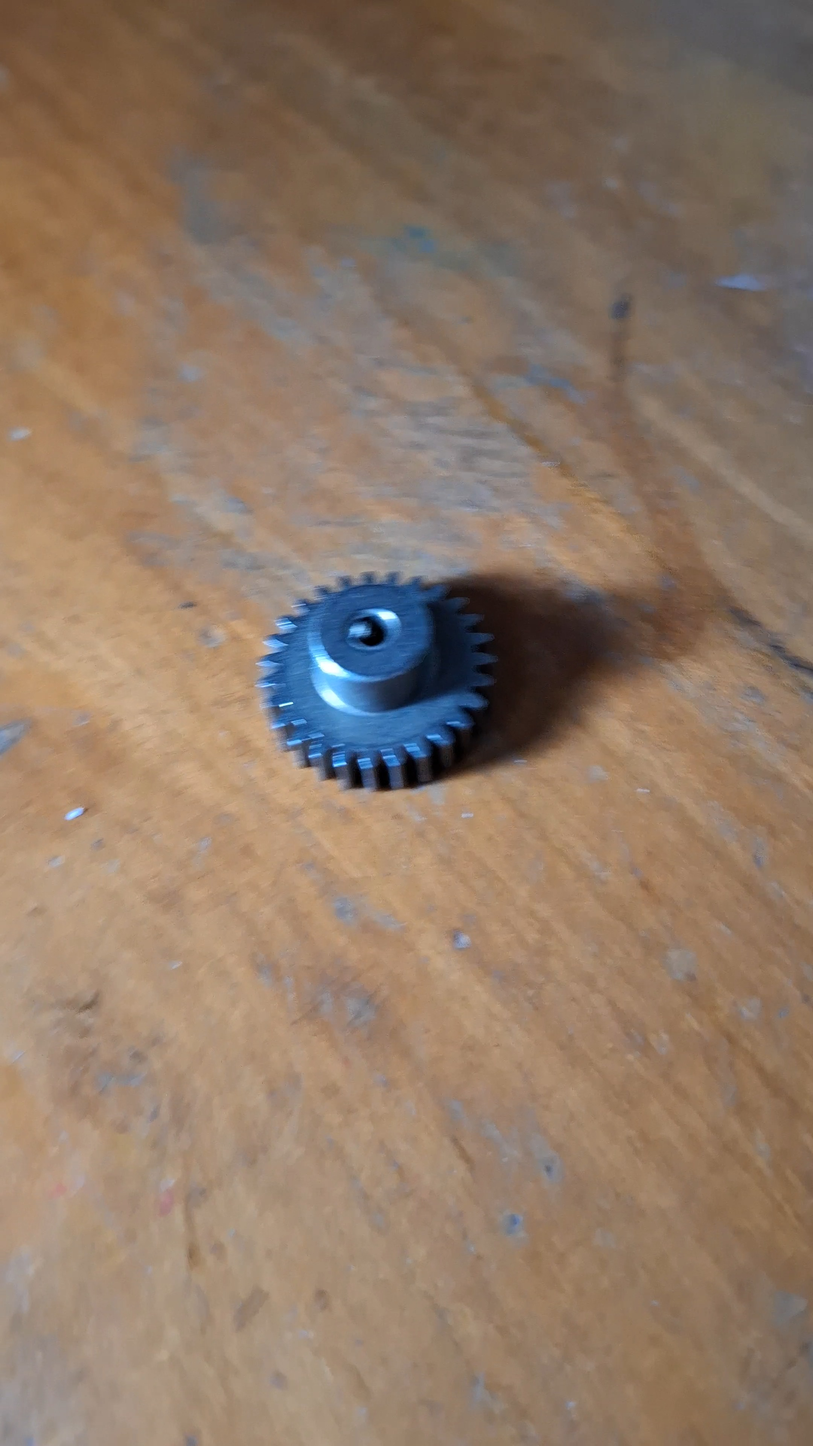spur gear: (258, 574, 495, 789)
